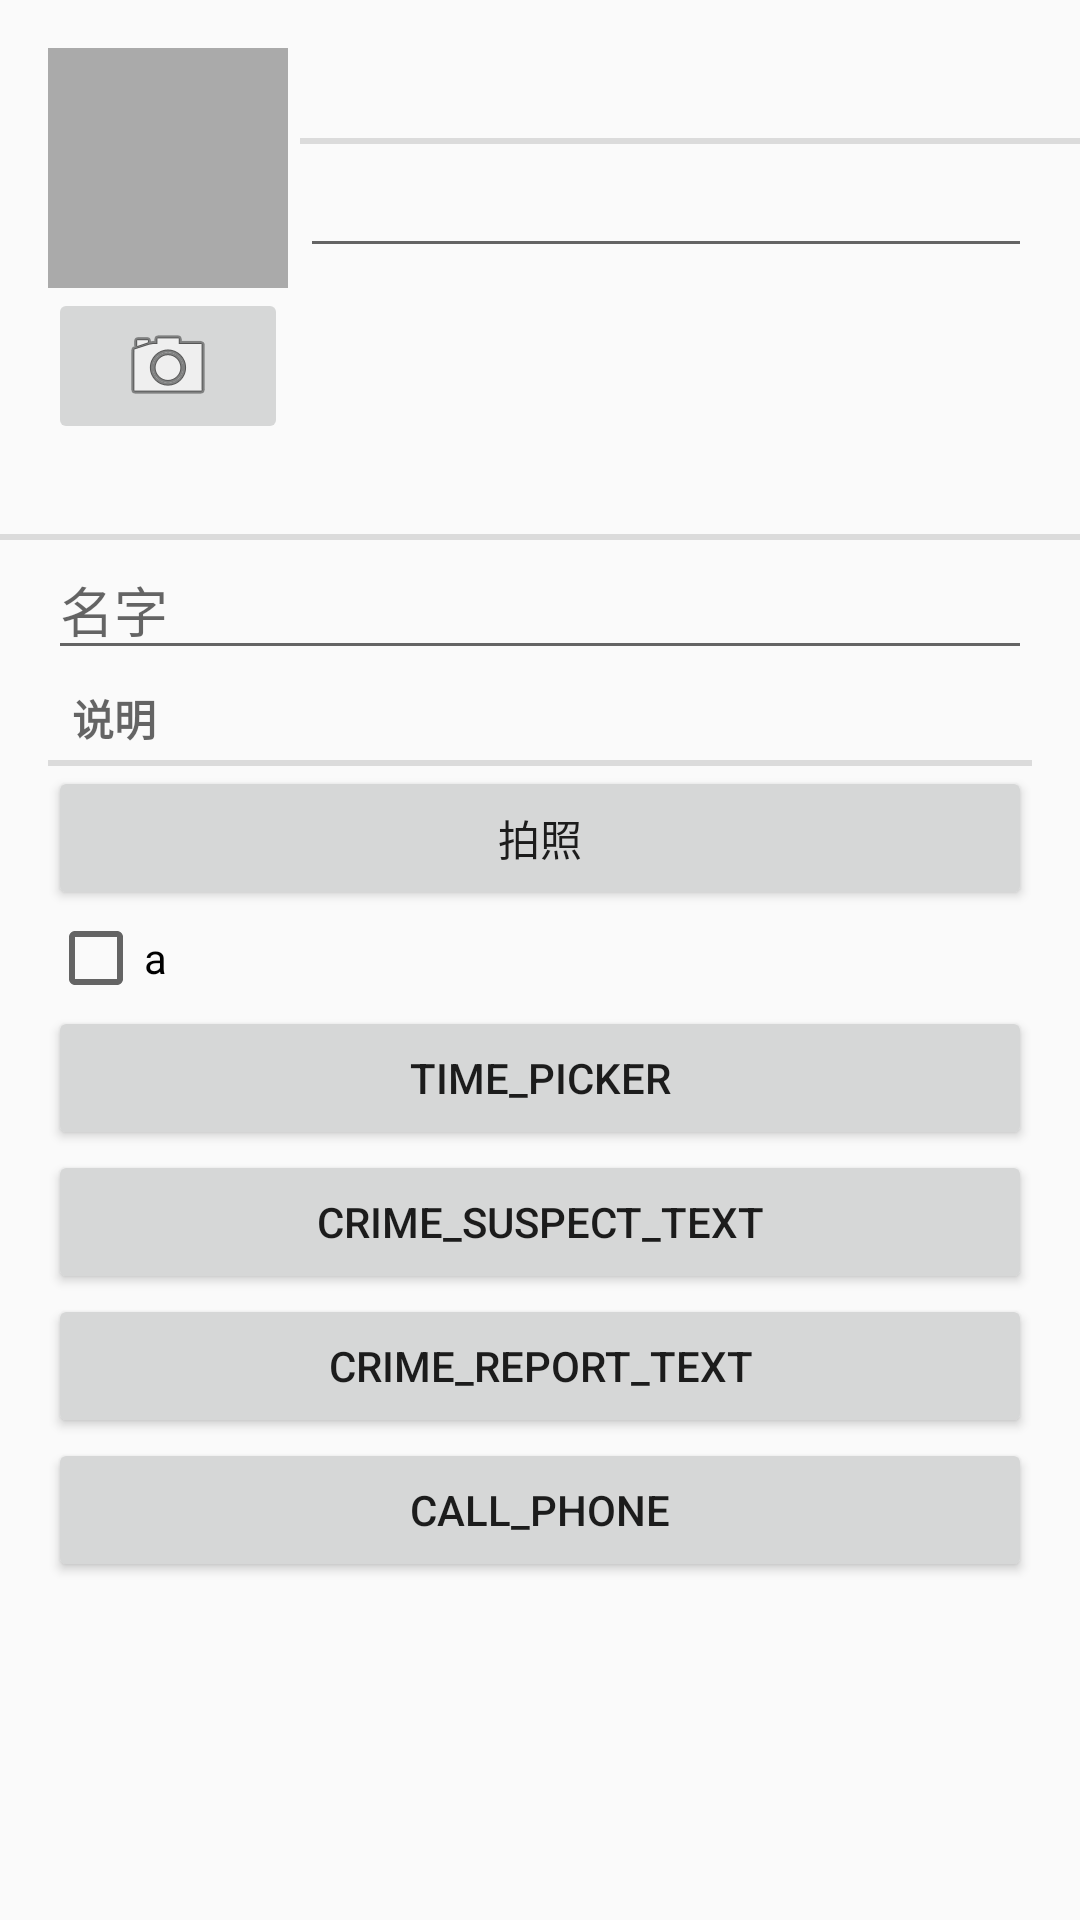

Icon click points for this 1080w x 1920h phone screenshot, format [x,y]:
camera: [168,366]
